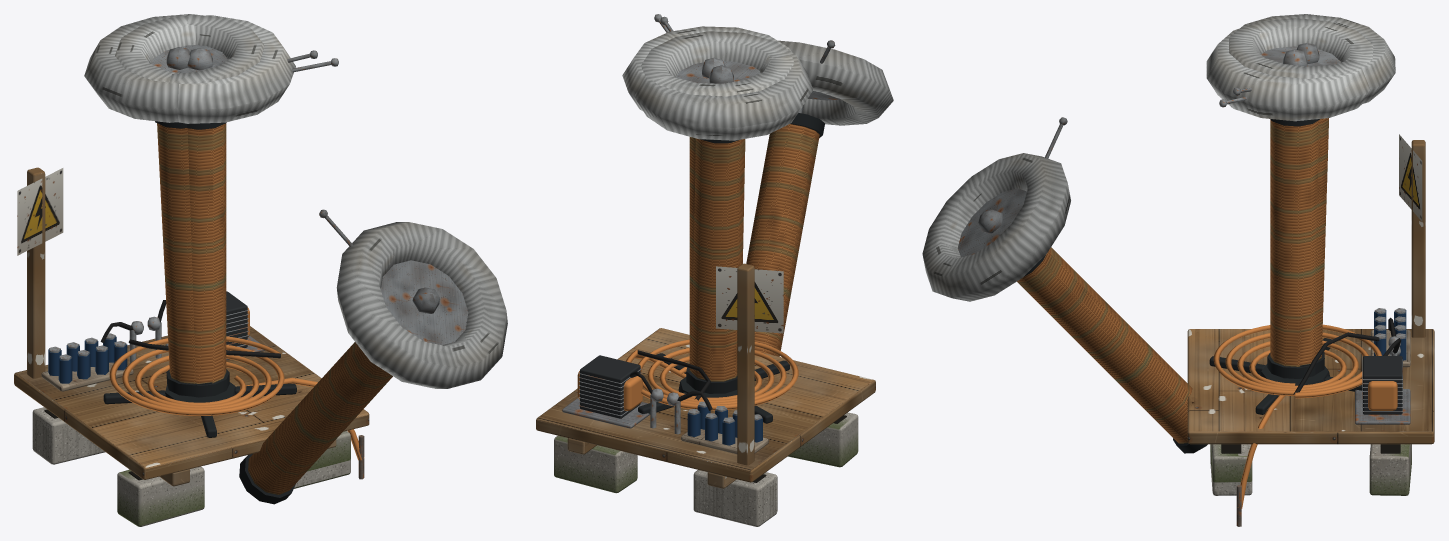
File: TeslaCoil.glb
3 renders of one model, left to right at view 1: azimuth 30°, elevation 25°; view 2: azimuth 150°, elevation 25°; view 3: azimuth 270°, elevation 25°, orthographic. The views are drawn at different scales.
Parts seen in each view (by area): view 1: Duct_broken, Wood, Winding, Duct, Winding_broken, Duct_damaged, Cinder, Winding_damaged, Steel_broken, Copper, Timber, Sign (+9 smaller); view 2: Wood, Duct_damaged, Winding_damaged, Cinder, Winding_broken, Duct_broken, Timber, Copper, Duct, Sign, Dark, Steel (+9 smaller); view 3: Wood, Duct_broken, Winding, Winding_broken, Duct, Copper, Duct_damaged, Cinder, Steel_broken, Timber, Winding_damaged, Plastic (+7 smaller).
Boxes of the visible parts, <box> form: Duct_broken: <box>336,222,507,388</box>; Wood: <box>14,326,369,479</box>; Winding: <box>187,123,226,383</box>; Duct: <box>115,15,295,123</box>; Winding_broken: <box>248,342,392,494</box>; Duct_damaged: <box>84,14,264,122</box>; Cinder: <box>32,407,350,526</box>; Winding_damaged: <box>157,123,195,383</box>; Steel_broken: <box>319,209,468,345</box>; Copper: <box>109,307,364,460</box>; Timber: <box>27,167,336,486</box>; Sign: <box>17,168,63,255</box>; Wood: <box>536,328,875,482</box>; Duct_damaged: <box>634,31,813,140</box>; Winding_damaged: <box>691,138,745,381</box>; Cinder: <box>554,412,858,526</box>; Winding_broken: <box>746,124,819,356</box>; Duct_broken: <box>778,40,893,125</box>; Timber: <box>567,263,754,488</box>; Copper: <box>577,339,798,410</box>; Duct: <box>622,26,794,110</box>; Sign: <box>716,266,783,333</box>; Dark: <box>580,355,640,418</box>; Steel: <box>579,14,762,434</box>; Wood: <box>1187,329,1434,444</box>; Duct_broken: <box>922,153,1070,301</box>; Winding: <box>1270,119,1318,366</box>; Winding_broken: <box>1017,247,1192,443</box>; Duct: <box>1206,18,1373,121</box>; Copper: <box>1213,324,1397,508</box>; Duct_damaged: <box>1229,14,1395,103</box>; Cinder: <box>1210,444,1411,495</box>; Steel_broken: <box>958,117,1067,257</box>; Timber: <box>1411,140,1425,337</box>; Winding_damaged: <box>1313,118,1328,359</box>; Plastic: <box>1209,119,1362,414</box>.
Bounding box in the file's own units: 0.7493 × 1.16 × 1.29.
64 materials, 40 textured.
